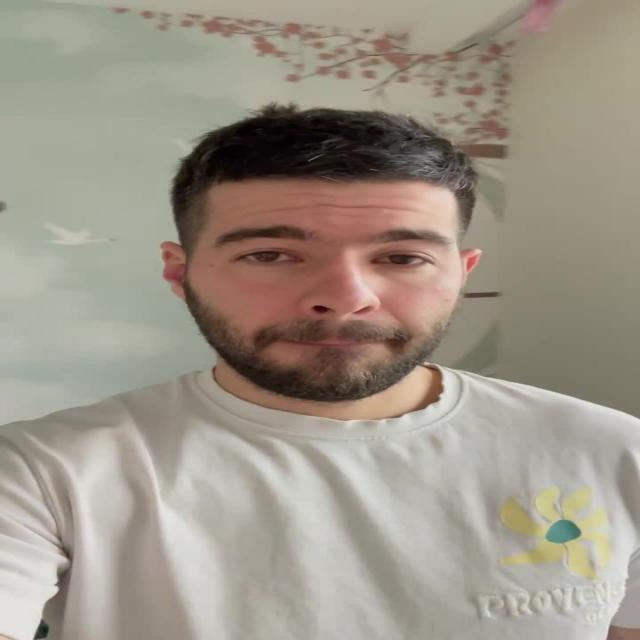earlobe: (159, 241, 189, 303), (458, 248, 484, 289)
